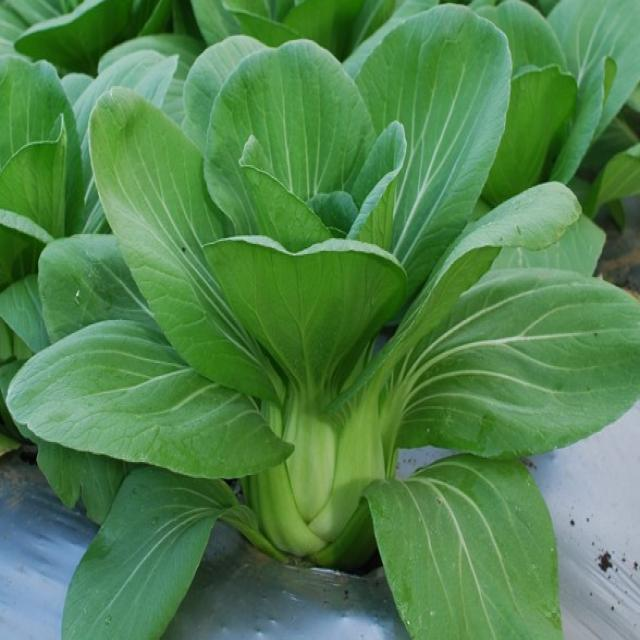pakcoy_sehat: (58, 52, 615, 640)
